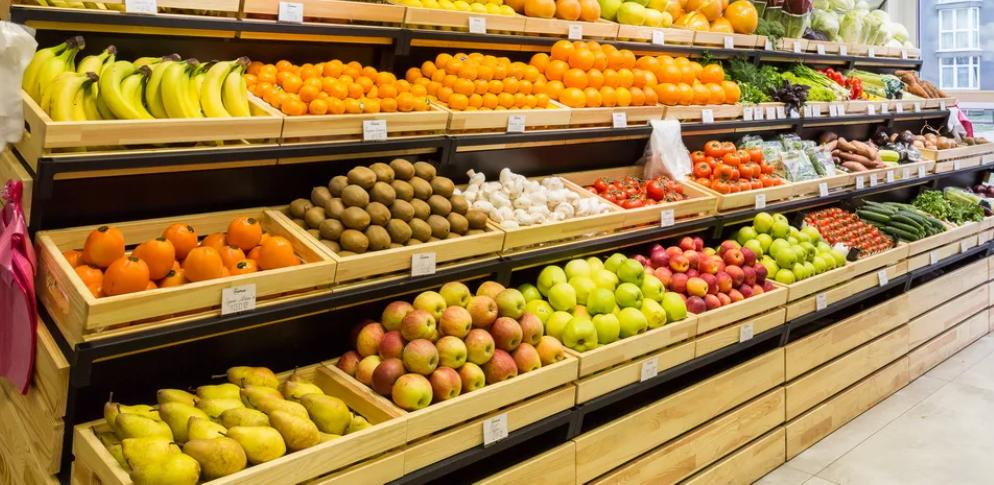banana: (18, 26, 256, 144)
carrot: (895, 68, 946, 101)
cucumber: (857, 198, 945, 242)
ginger: (447, 168, 615, 235)
green apple: (524, 245, 692, 354), (726, 217, 846, 284)
lemon: (402, 0, 517, 32)
mandarin: (245, 56, 435, 121), (416, 48, 548, 124)
onion: (909, 130, 960, 162)
orange: (540, 42, 652, 116), (638, 56, 742, 110)
pear: (92, 366, 379, 485)
red apple: (342, 282, 568, 410), (637, 235, 770, 315)
sweet pepper: (819, 66, 864, 102)
tomato: (683, 142, 786, 205), (586, 174, 689, 225)
